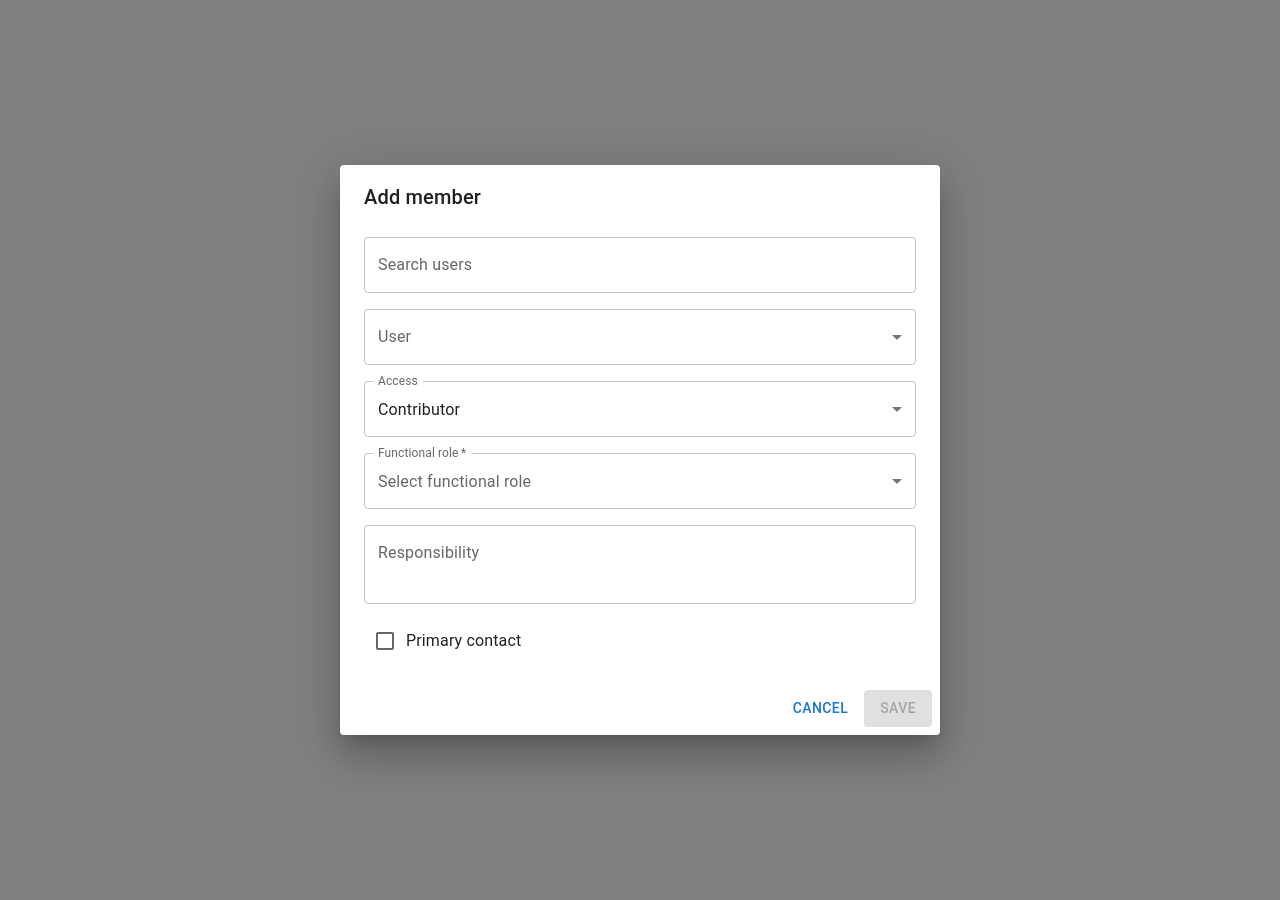
Test: TeamMemberDialog functional role select › does not change user select when opening the menu in add dialog
In the field labelled "Search users": (640, 265) [364,237,916,293], type "Priya"
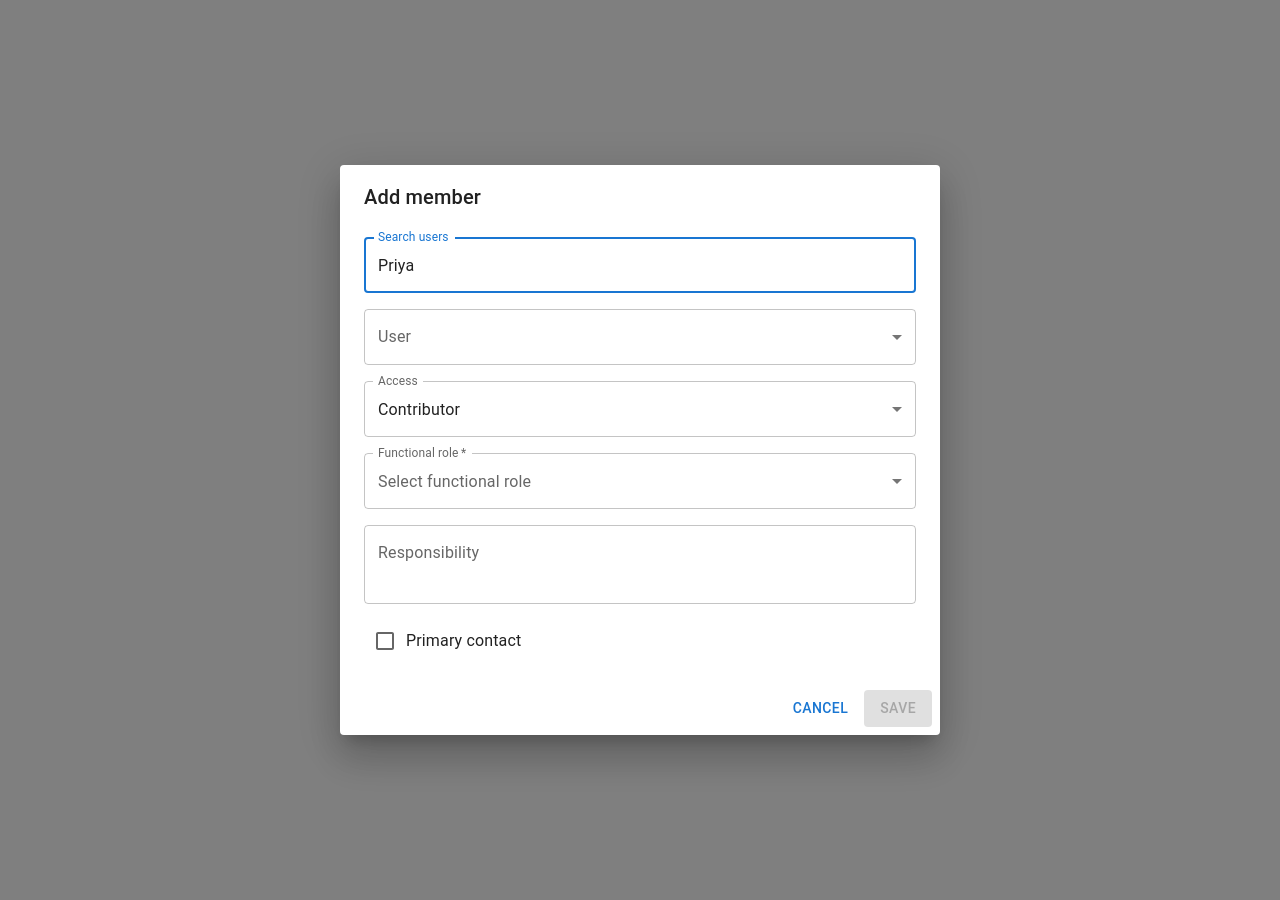
Click the dropdown named "user": (640, 337) [364,309,916,365]
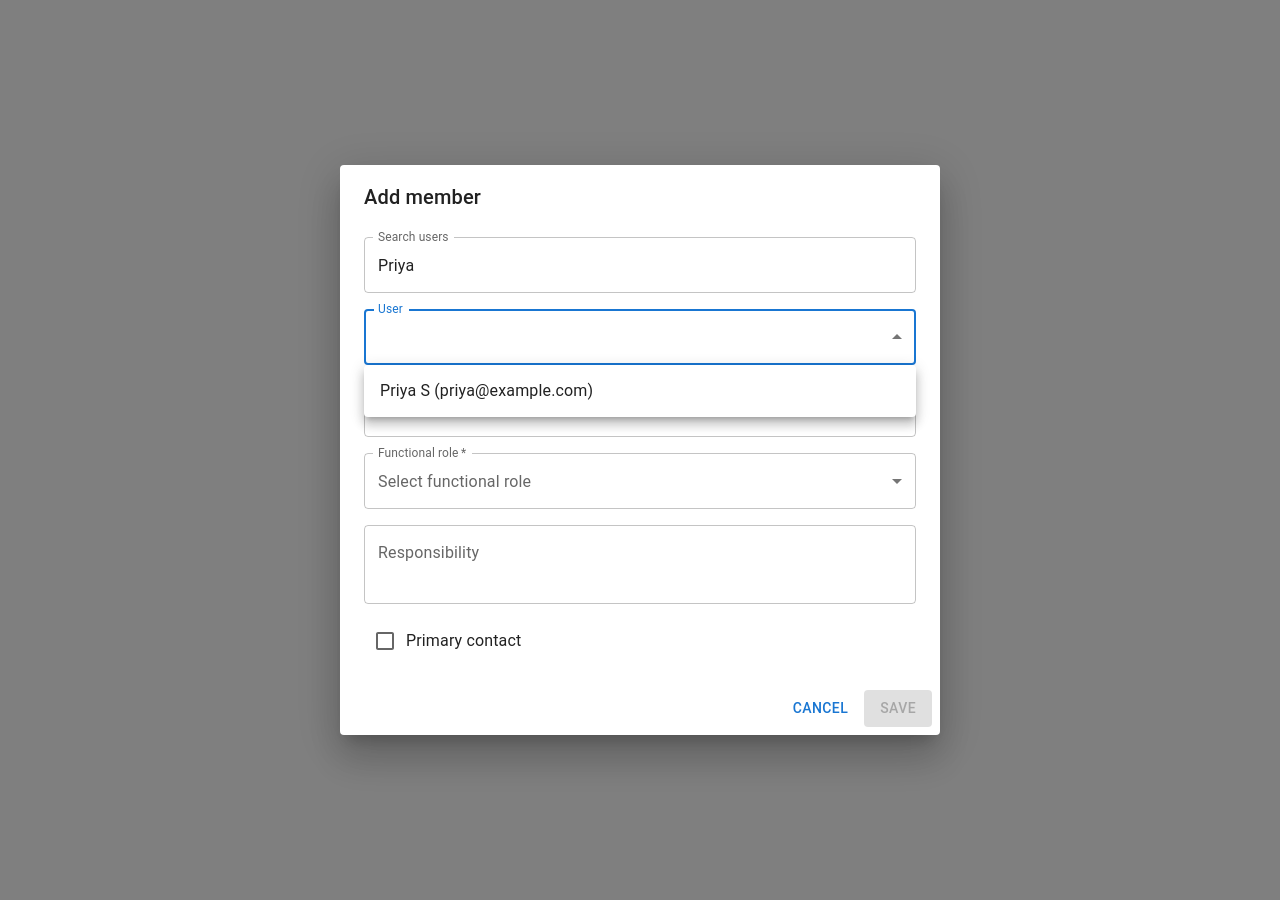
Check: the list is shown
Click the option "Priya S (priya@example.com)": (487, 390) [380,381,593,400]
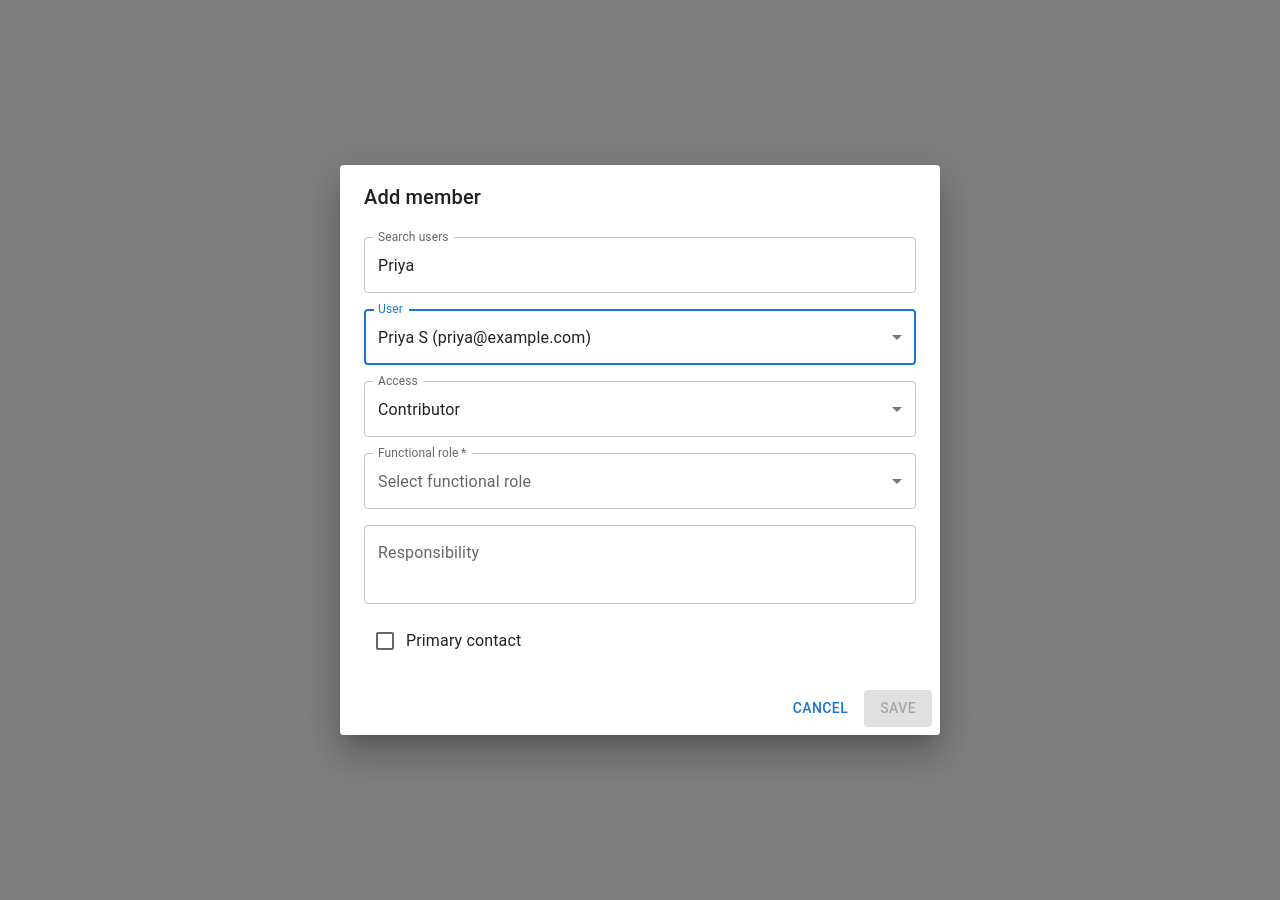
Check: the dropdown named "user" reads "Priya S (priya@example.com)", box [378,328,591,347]
